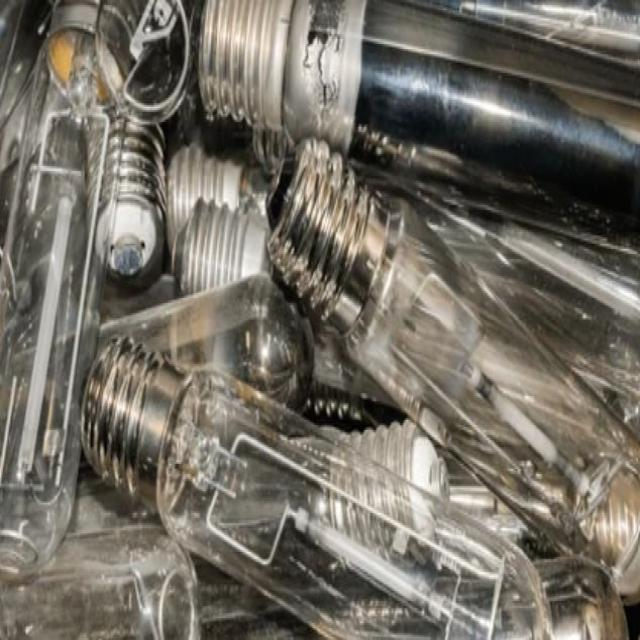electronic: (0, 0, 639, 638), (263, 136, 639, 604), (79, 330, 631, 638), (196, 0, 639, 234)
